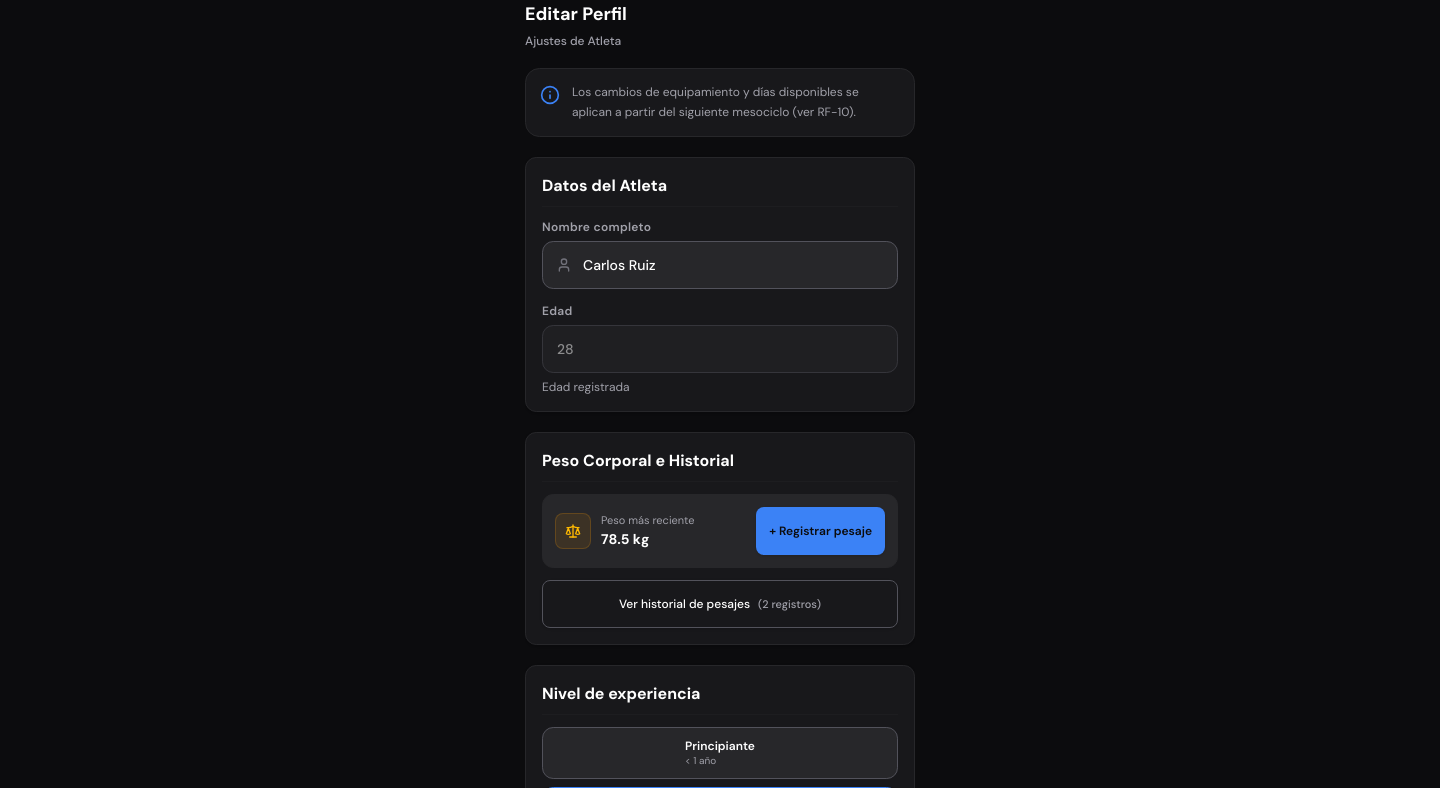
Test: TASK-38: ProfilePage.tsx — Weight Tracking & Availability Change Warning (RF-01, RF-02, RF-09, Constitución Art. 2) › Módulo de Peso Corporal e Historial (RF-01, RF-02) › should enforce numeric range validations (< 30.0 kg and > 300.0 kg) in weight modal (RF-01 CA-01.5)
Click the button "+ Registrar pesaje".
click(821, 531)  # box [756, 507, 885, 555]
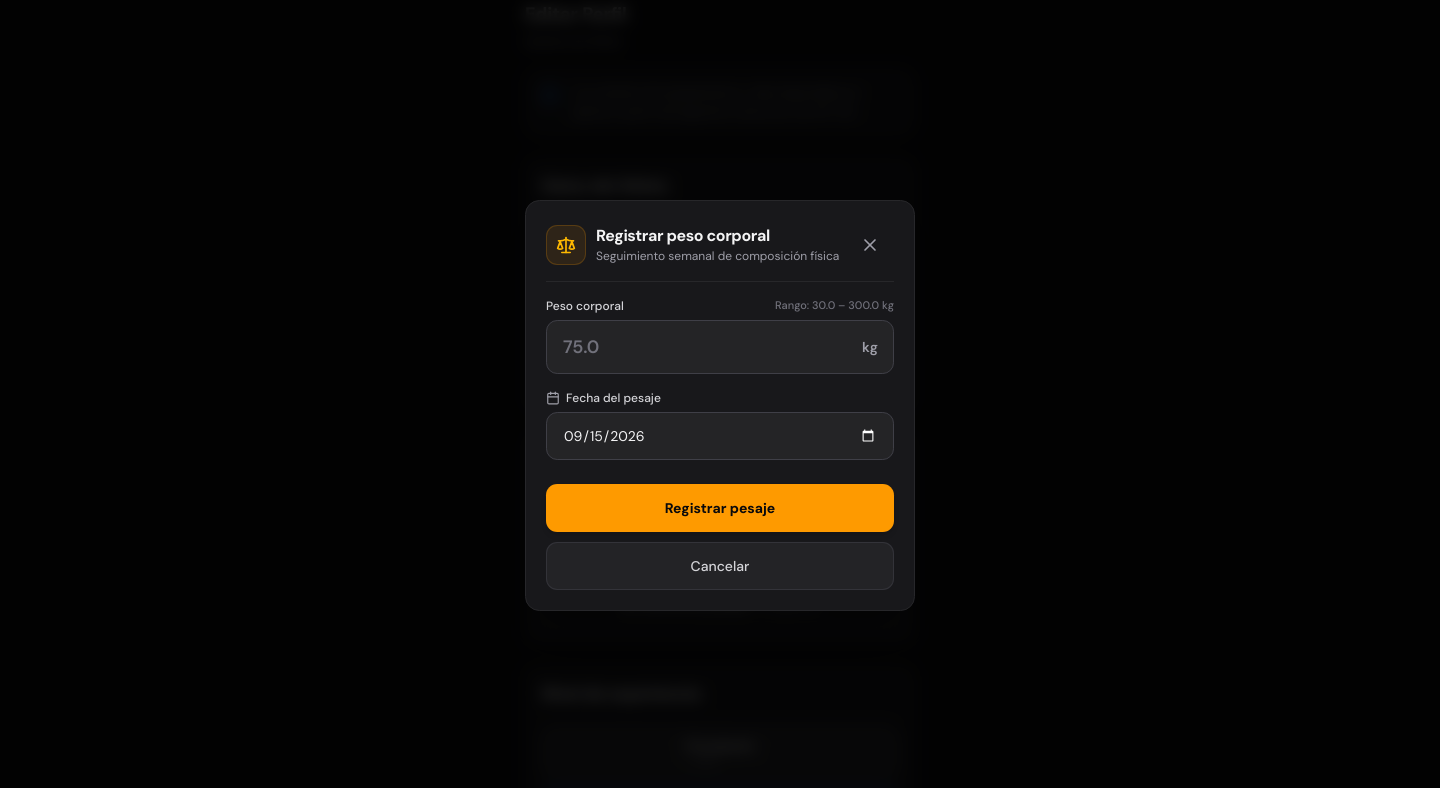
Type "25.0" into the field labelled "Peso corporal Rango: 30.0 – 300.0 kg".
click(720, 346); type("25.0")  # box [546, 320, 894, 374]
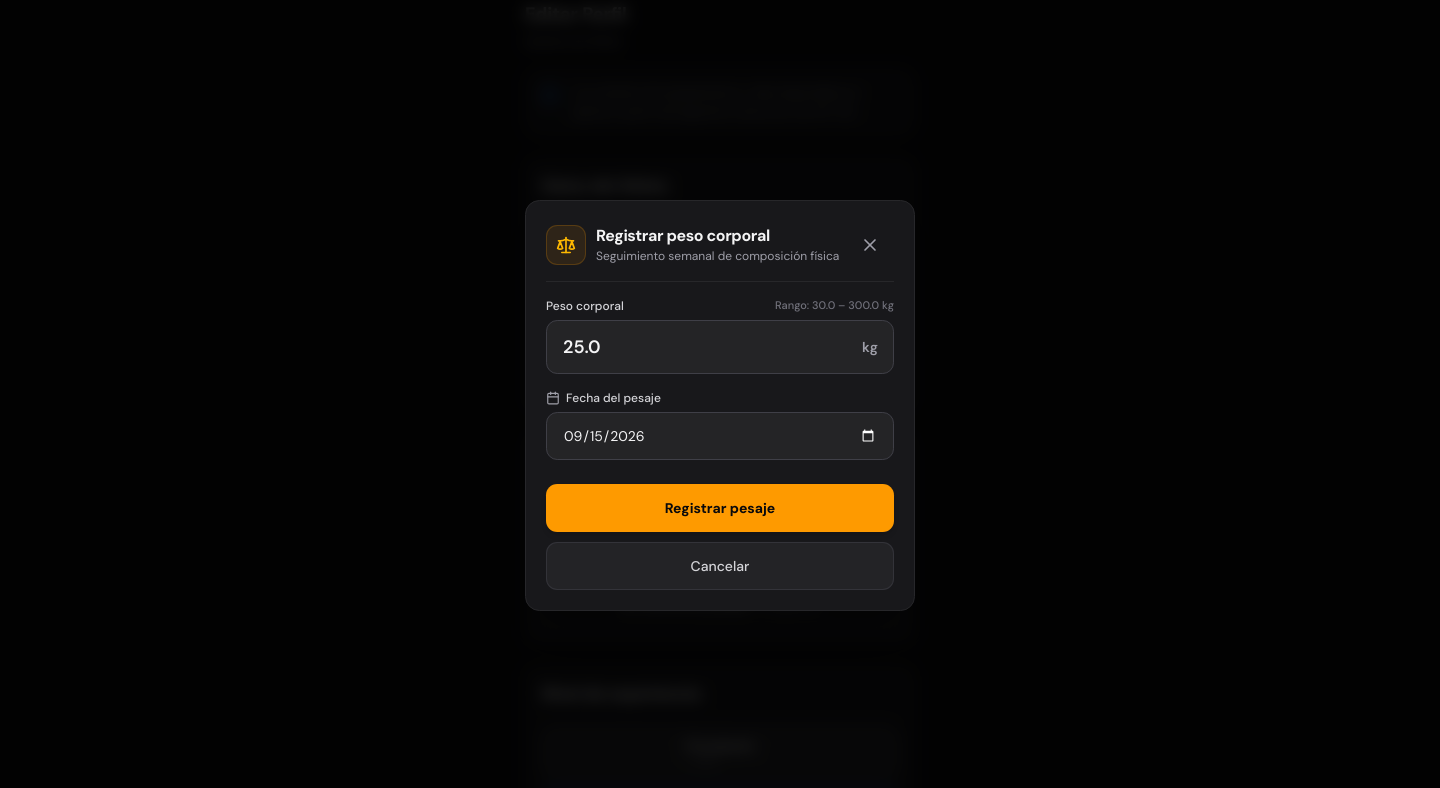
Click the button "Registrar pesaje".
click(720, 508)  # box [546, 484, 894, 532]
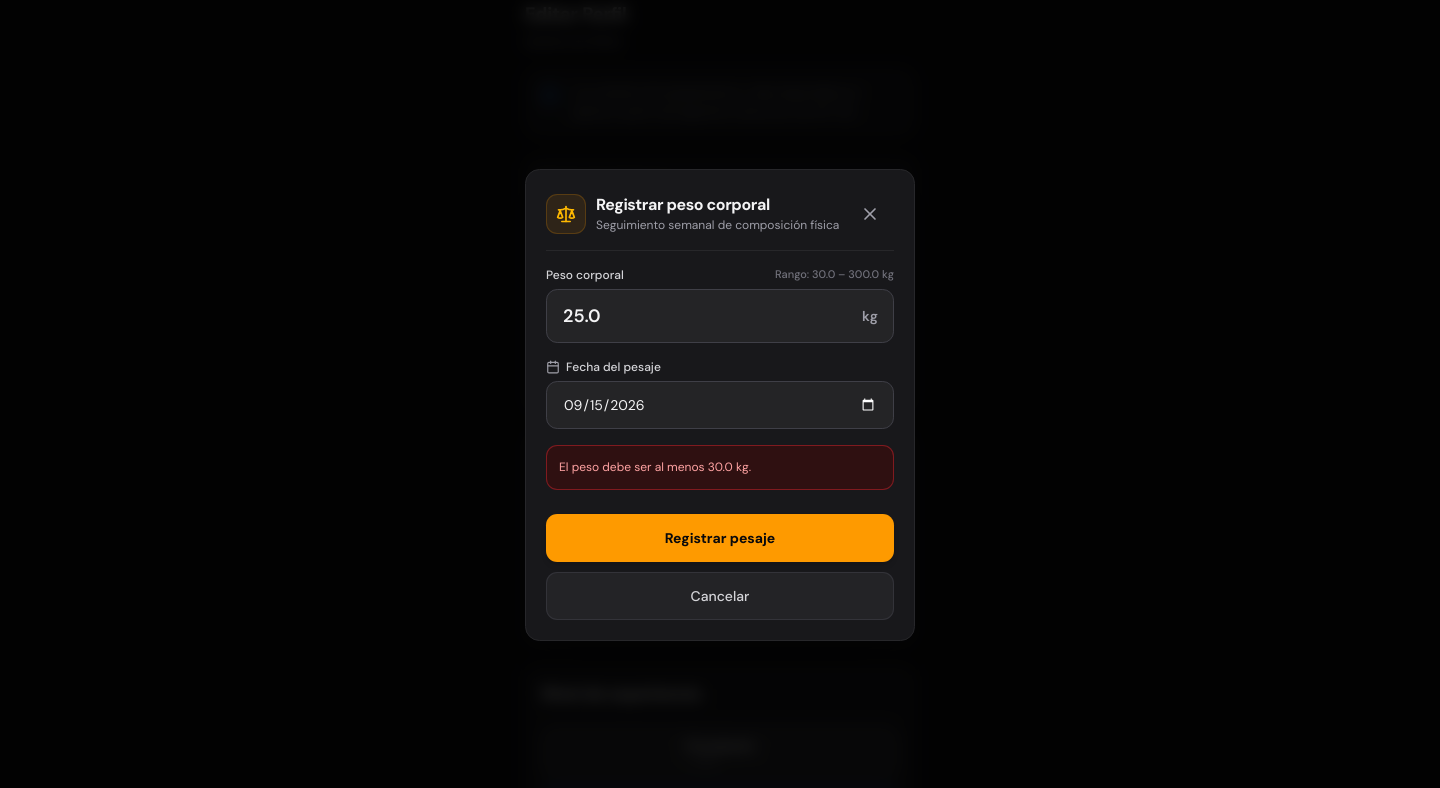
Check: the text "El peso debe ser al menos 30.0 kg." is shown, box [546, 445, 894, 490]
Replace the text in the field labelled "Peso corporal Rango: 30.0 – 300.0 kg" with "350.0" at (720, 316), box [546, 289, 894, 343]
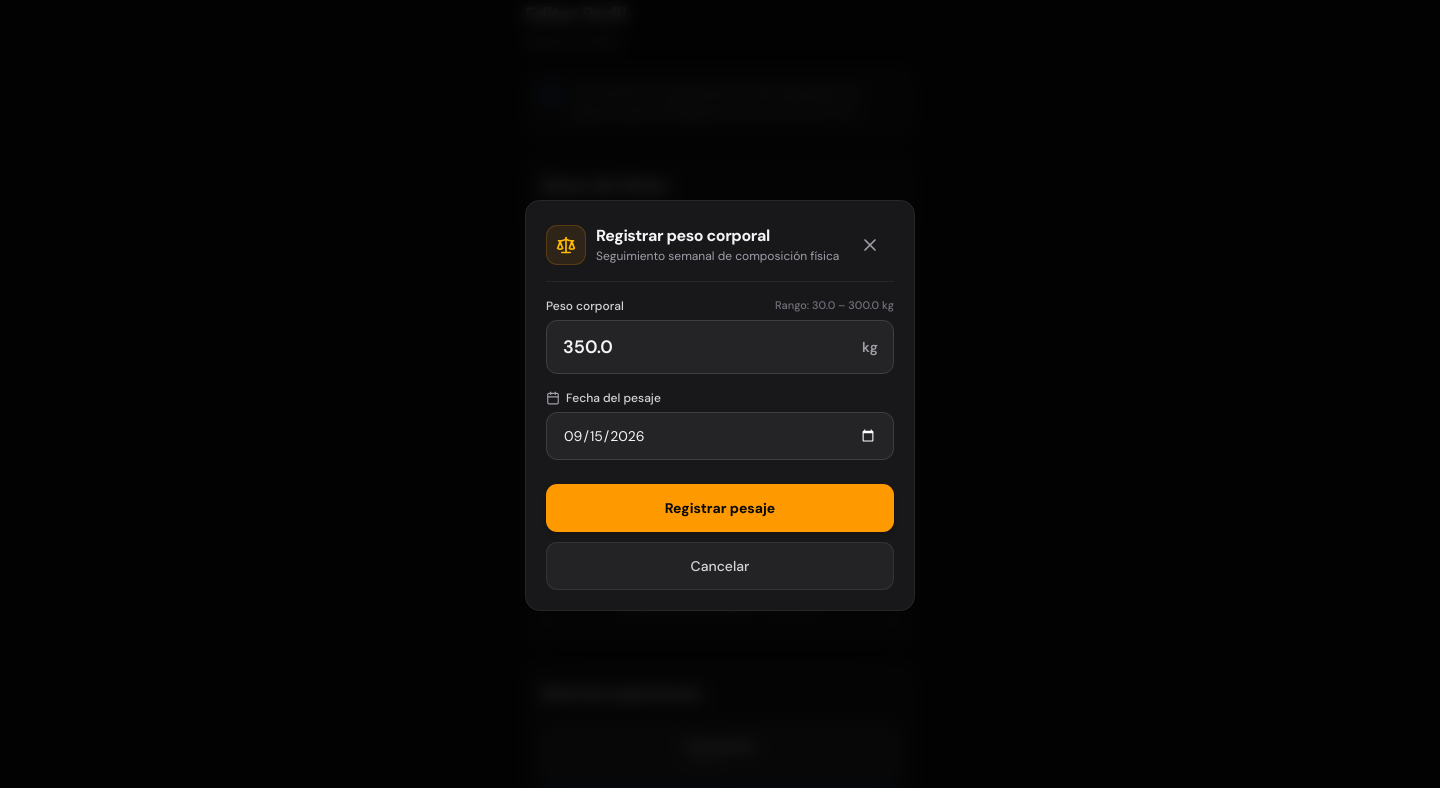
Click the button "Registrar pesaje".
click(720, 508)  # box [546, 484, 894, 532]
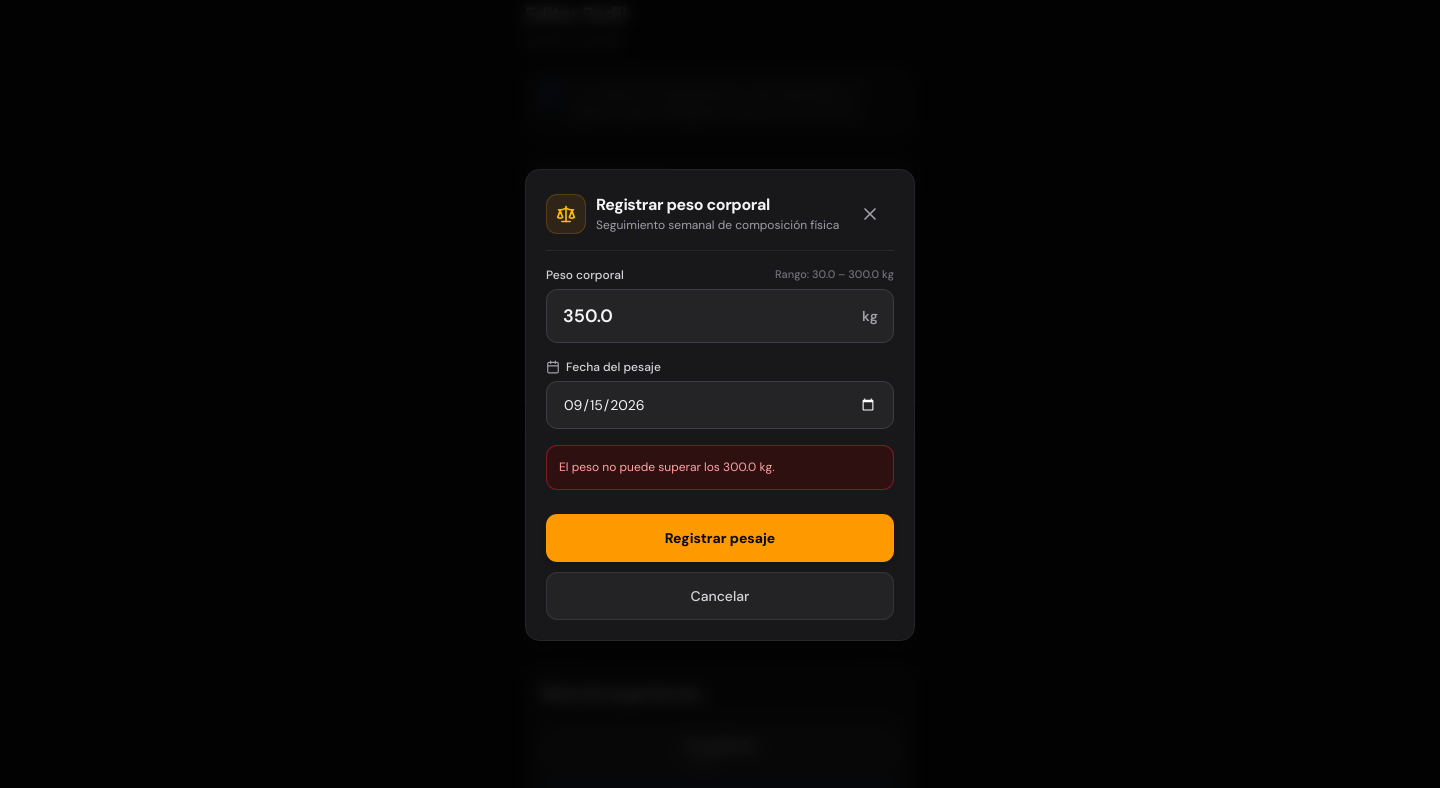
Check: the text "El peso no puede superar los 300.0 kg." is shown, box [546, 445, 894, 490]
